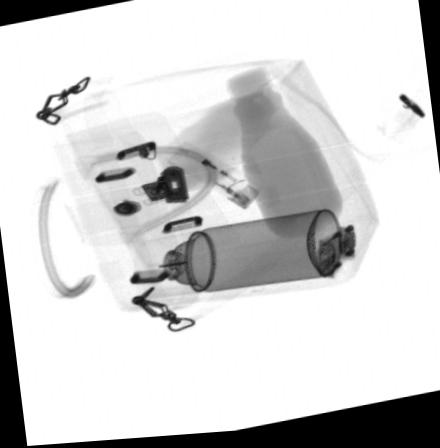Lighter: (166, 143, 259, 213)
Sprayer: (131, 211, 339, 301)
